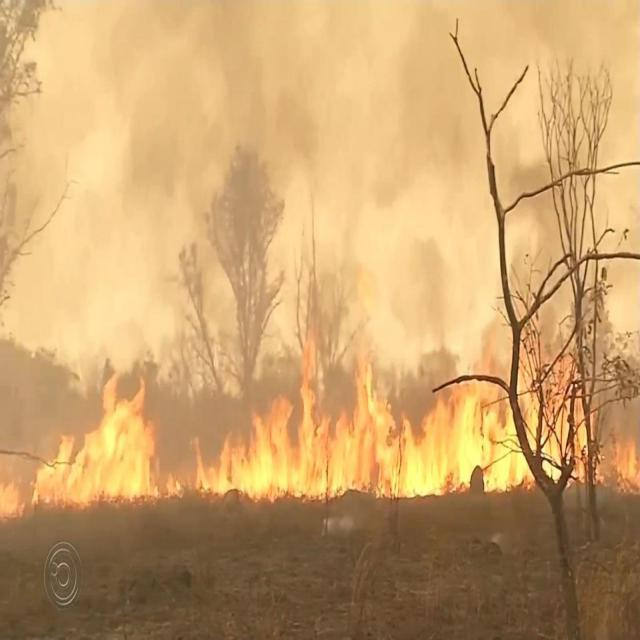Fire: (192, 352, 598, 494), (46, 388, 178, 508), (609, 427, 637, 493)
